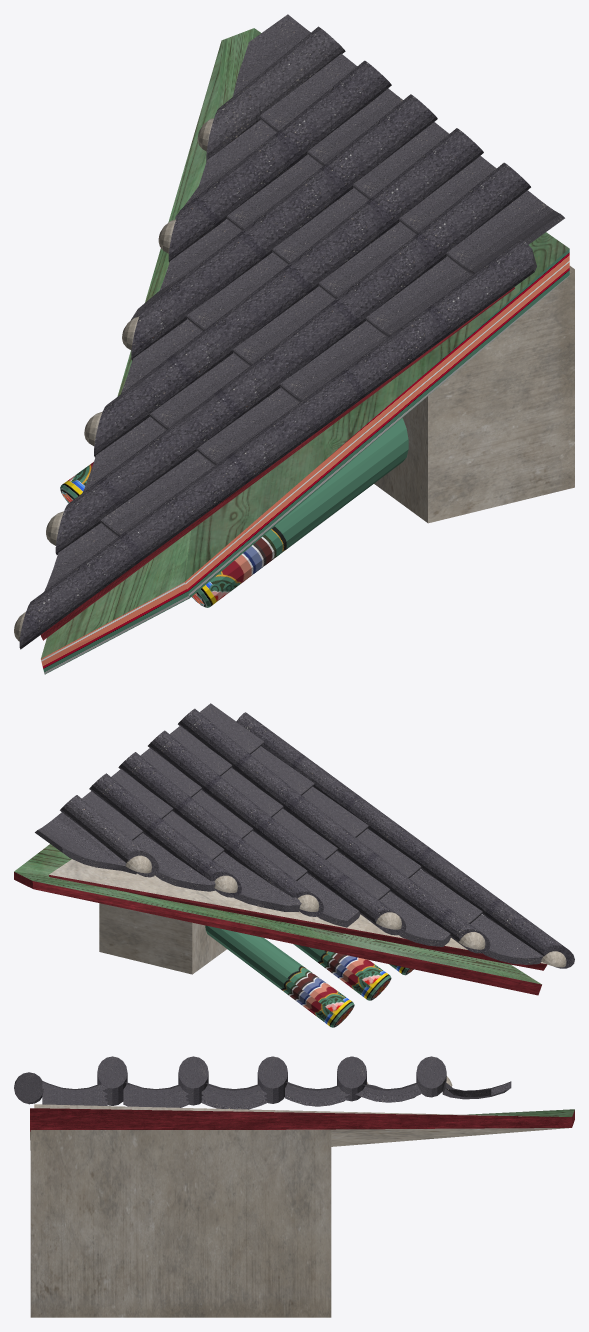
The model's file is SM_R_RoofCornerCut_2.fbx.
3 renders of one model, top to bottom at view 1: azimuth 30°, elevation 25°; view 2: azimuth 150°, elevation 25°; view 3: azimuth 270°, elevation 25°, orthographic. The views are drawn at different scales.
Parts seen in each view (by area): view 1: SM_R_RoofCornerCut_2; view 2: SM_R_RoofCornerCut_2; view 3: SM_R_RoofCornerCut_2.
Part boxes in pixels (x1,y1,x2,y2): SM_R_RoofCornerCut_2: [14, 14, 574, 674]; SM_R_RoofCornerCut_2: [14, 703, 574, 1027]; SM_R_RoofCornerCut_2: [14, 1056, 574, 1317].
Size of the model in its own units: 362 by 360 by 218.
Materials: 4 (4 with a texture image).
